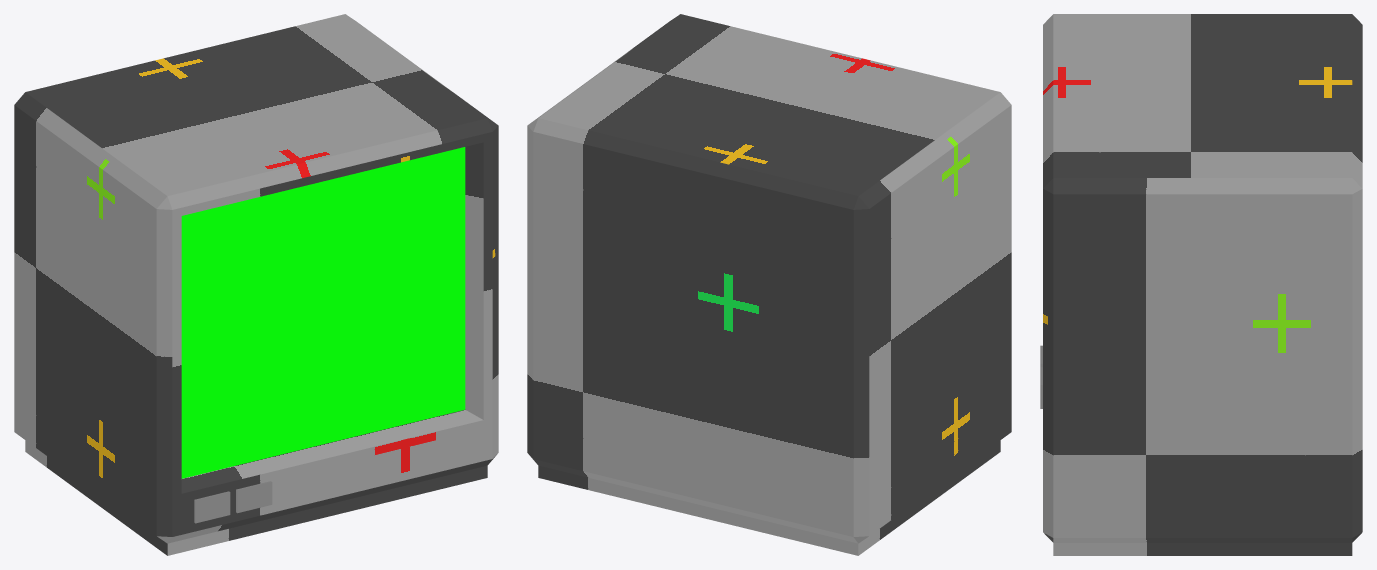
The picture shows the model from 3 angles, left to right: view 1: azimuth 30°, elevation 25°; view 2: azimuth 150°, elevation 25°; view 3: azimuth 270°, elevation 25°; orthographic projection. The views are drawn at different scales.
Parts seen in each view (by area): view 1: CRT.002; view 2: CRT.002; view 3: CRT.002.
Part boxes in pixels (x1,y1,x2,y2): CRT.002: [14, 14, 498, 555]; CRT.002: [527, 14, 1011, 555]; CRT.002: [1040, 14, 1362, 555].
Size of the model in its own units: 5.54 by 5.57 by 4.3.
3 materials, 1 textured.
